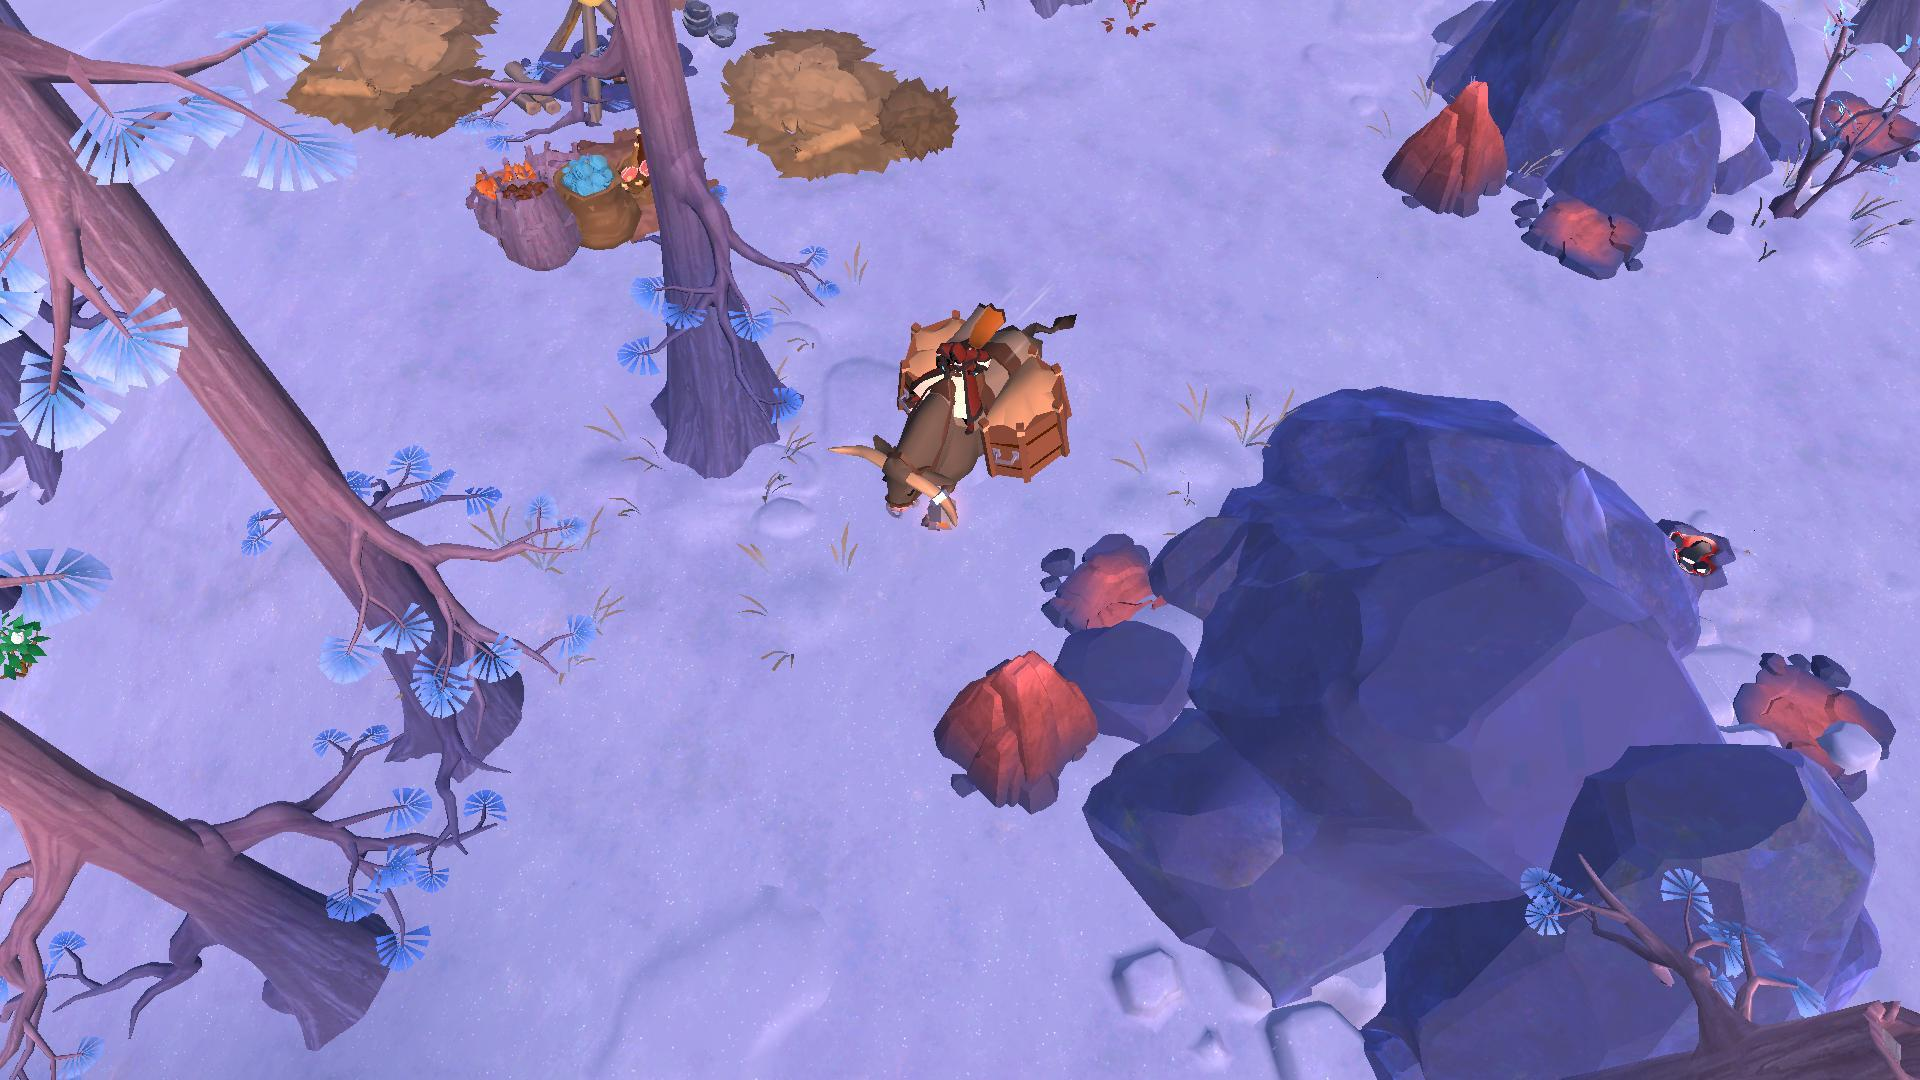fiber_t3: (0, 613, 61, 696)
rock_t5: (934, 646, 1091, 818), (1378, 76, 1510, 225)
